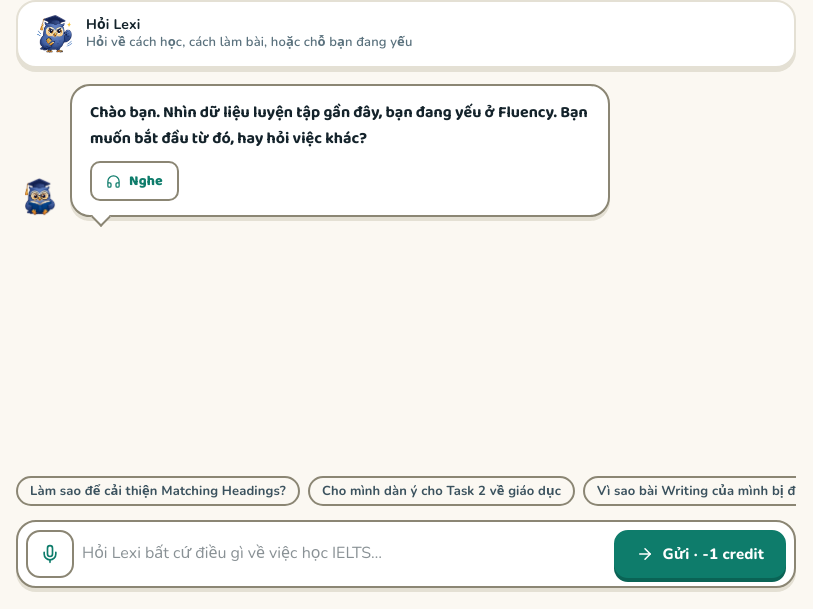
Test: AiChatPage — sending › publishes to the realtime destination with a client message id
In the field with placeholder "Hỏi Lexi bất cứ điều gì về việc học IELTS…": (344, 554) 82,534 -> 606,574, type "How do I improve reading?"
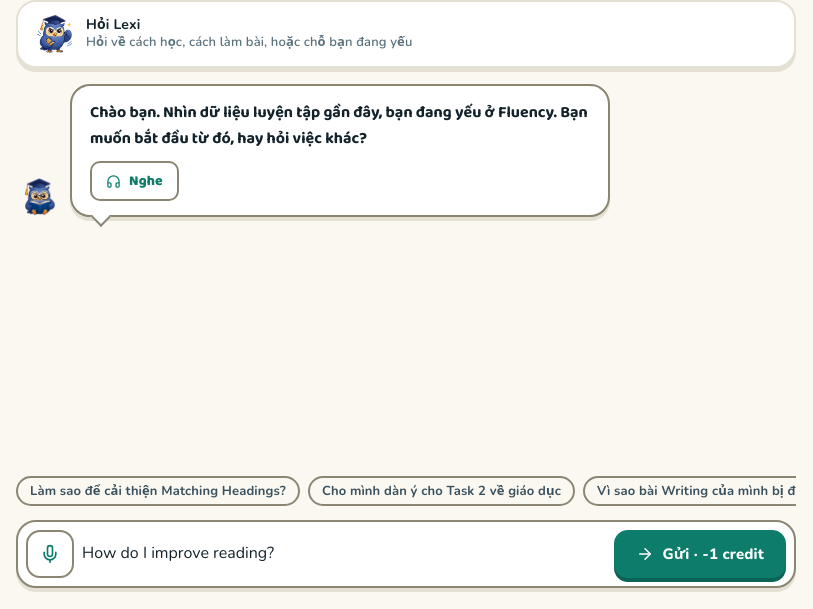
Click the button "Gửi · -1 credit": (700, 554) 614,530 -> 786,578
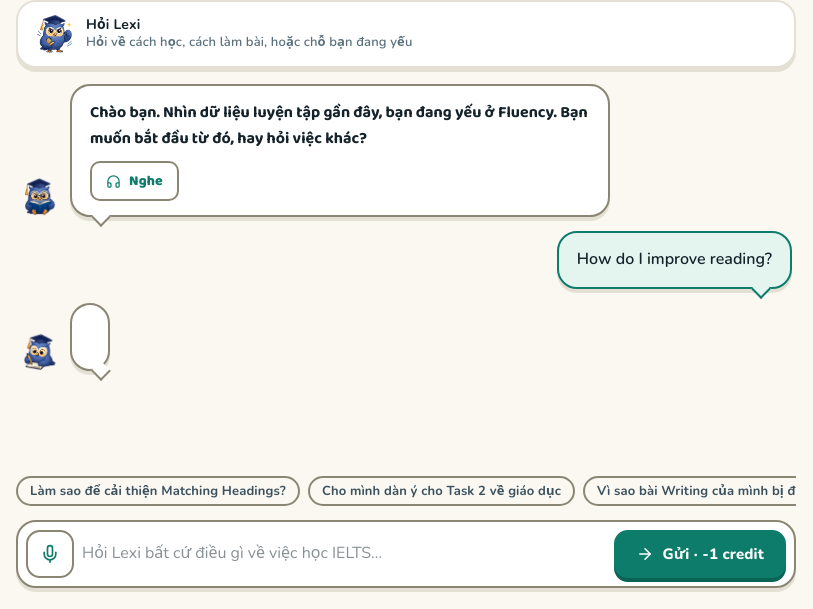
Expected: the text "How do I improve reading?" is shown, 577,247 -> 772,273
